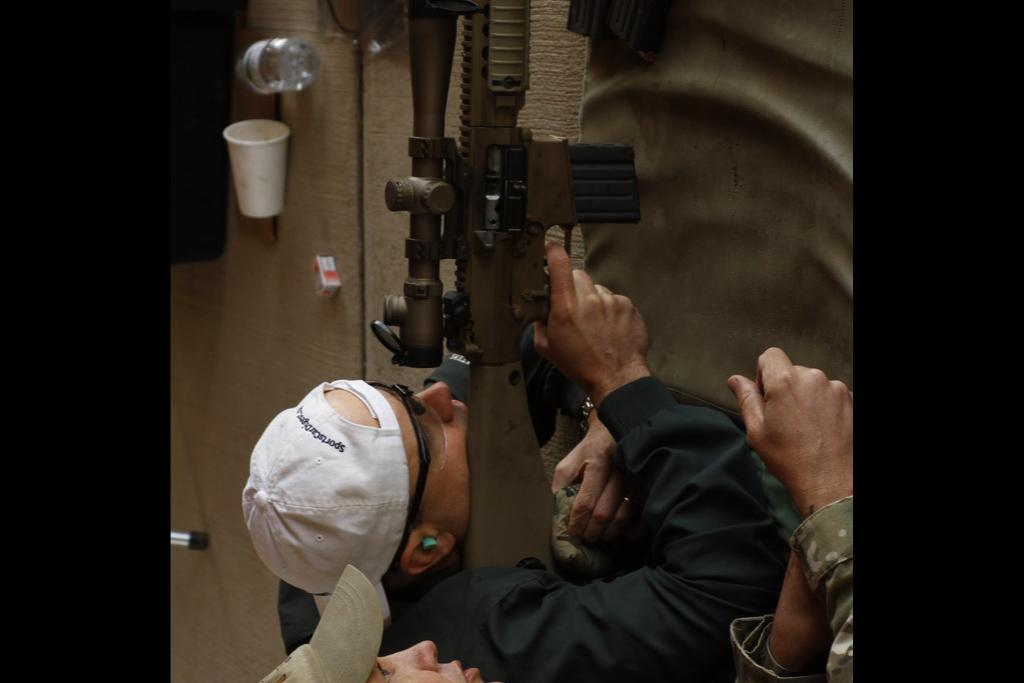gun: (386, 0, 640, 567)
